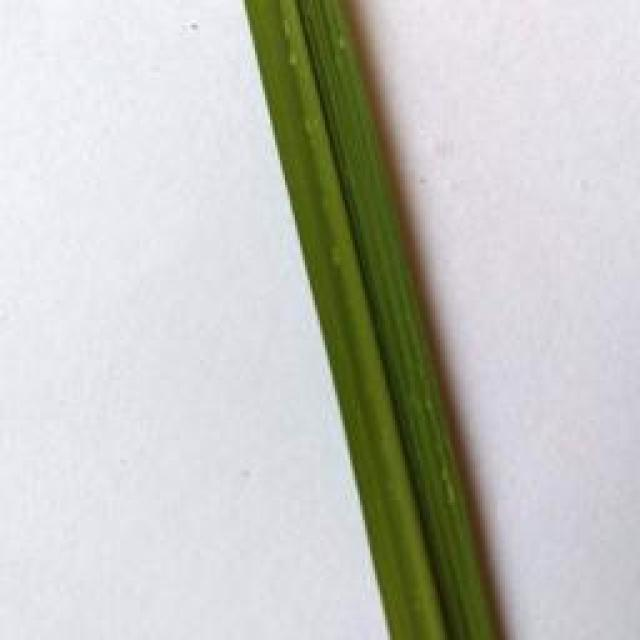Bacterial_Blight: (437, 464, 461, 511), (333, 28, 352, 62), (285, 47, 304, 75)
